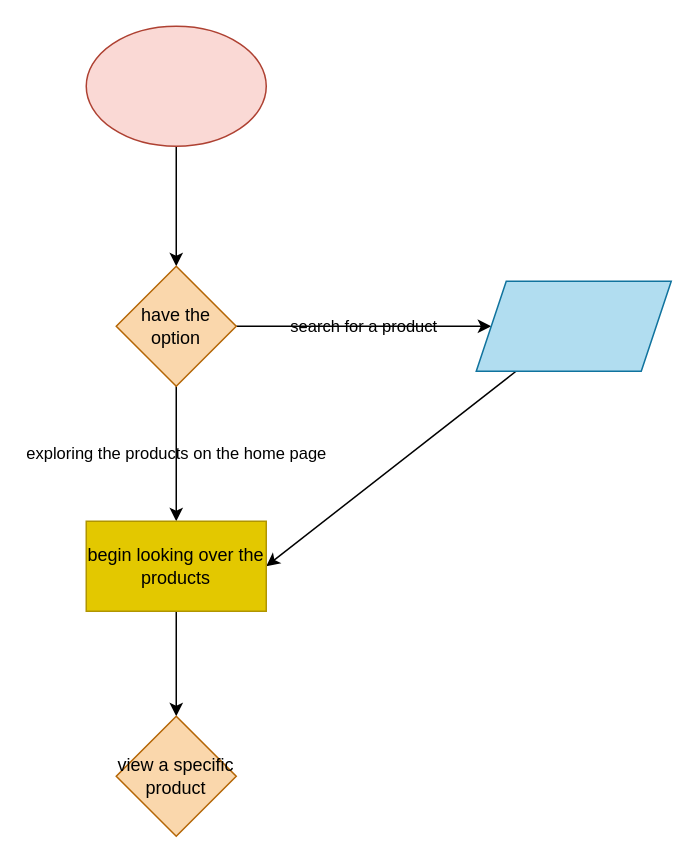
This 698x863 diagram has some shape labels left out. The box of each missing label's shape, as (x1, y1, x2, y2) in pixels:
enter the website: (85, 25, 266, 146)
provide input to the website of search: (475, 280, 671, 371)
